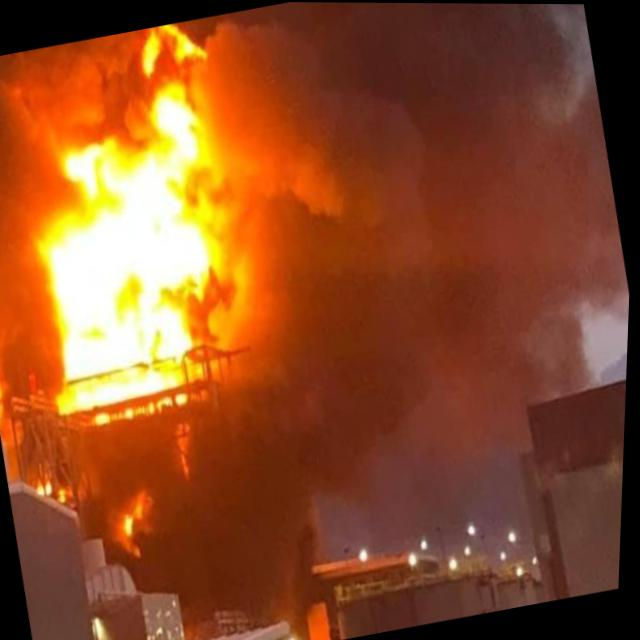fire: (0, 17, 281, 439), (105, 478, 173, 568), (0, 231, 20, 434), (167, 416, 207, 487), (34, 470, 82, 511)
